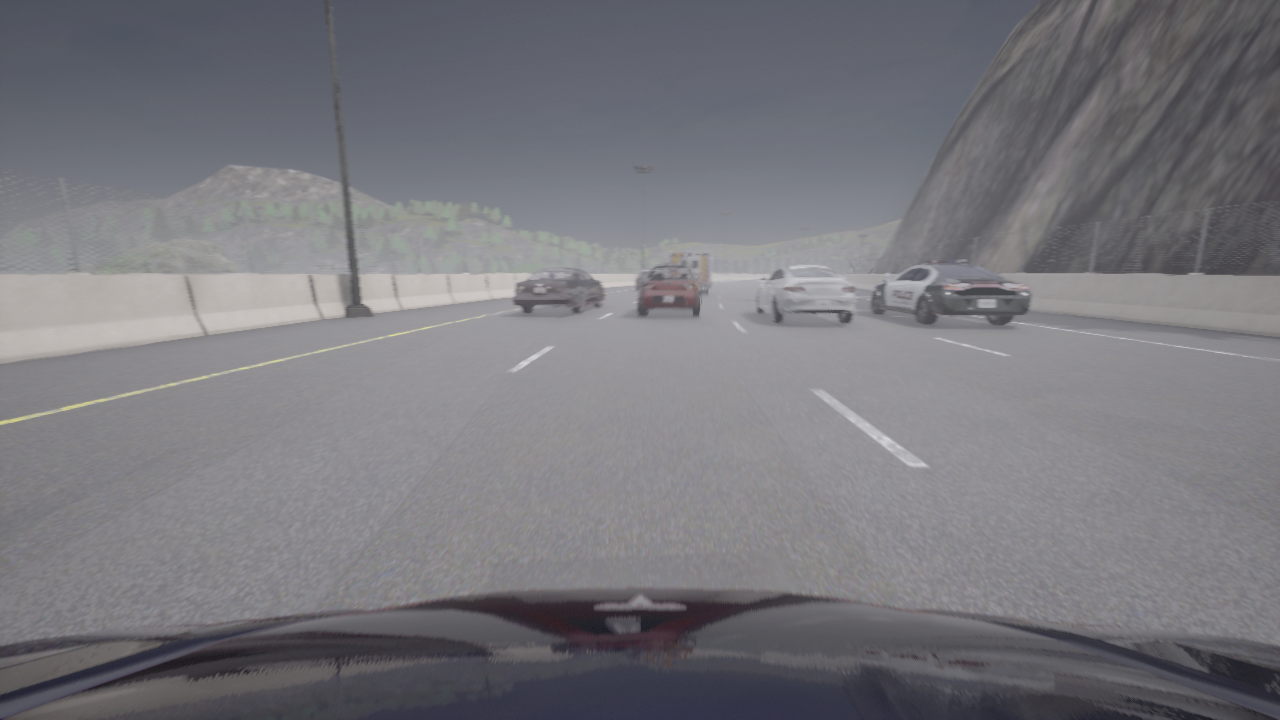cyclist: (0, 588, 1279, 719), (870, 260, 1032, 324), (756, 264, 854, 323), (511, 267, 604, 313), (638, 264, 700, 316), (669, 250, 715, 294), (636, 270, 649, 290)
